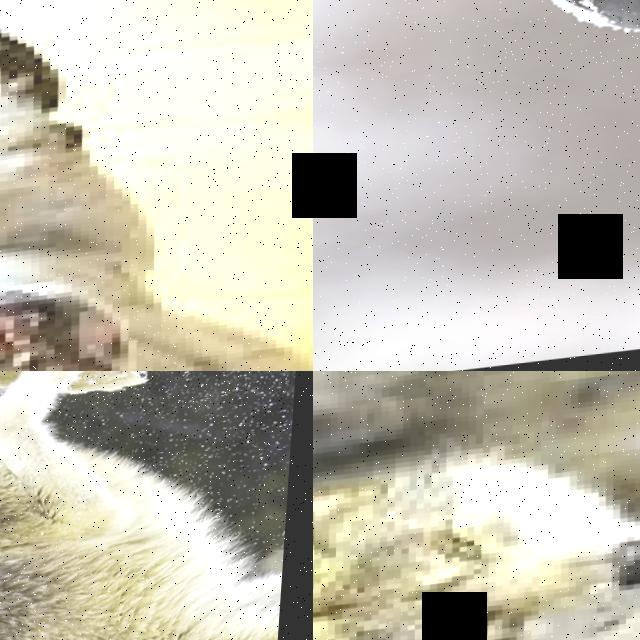dog: (0, 0, 313, 371)
wolf: (313, 386, 640, 640), (0, 371, 307, 640), (313, 371, 640, 508), (313, 0, 640, 113), (0, 371, 313, 456)
